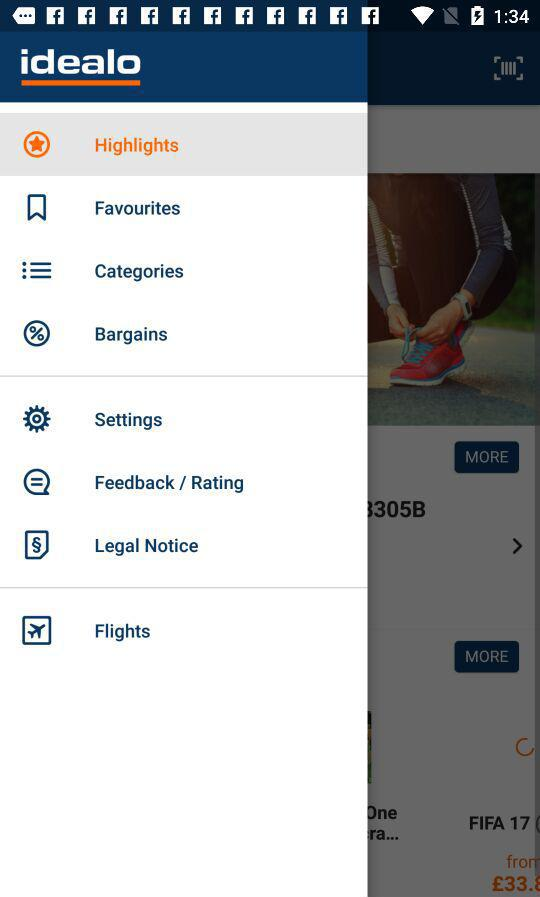Drawer: (1, 33, 368, 897)
Icon: (23, 405, 52, 434), (24, 131, 52, 160), (25, 530, 51, 561), (24, 468, 52, 496), (22, 261, 53, 281), (28, 194, 48, 223)
Image: (20, 48, 142, 88), (23, 615, 53, 646), (24, 320, 52, 348)
Text: (96, 474, 245, 495), (95, 537, 200, 557), (94, 136, 180, 158), (95, 263, 185, 284), (95, 326, 169, 346), (95, 200, 182, 217), (95, 412, 163, 432), (96, 622, 153, 643)
UpperTaskBar: (1, 1, 540, 33)
